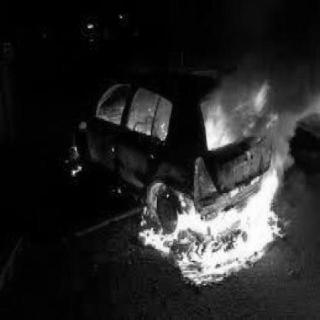Fire: (68, 162, 84, 175)
